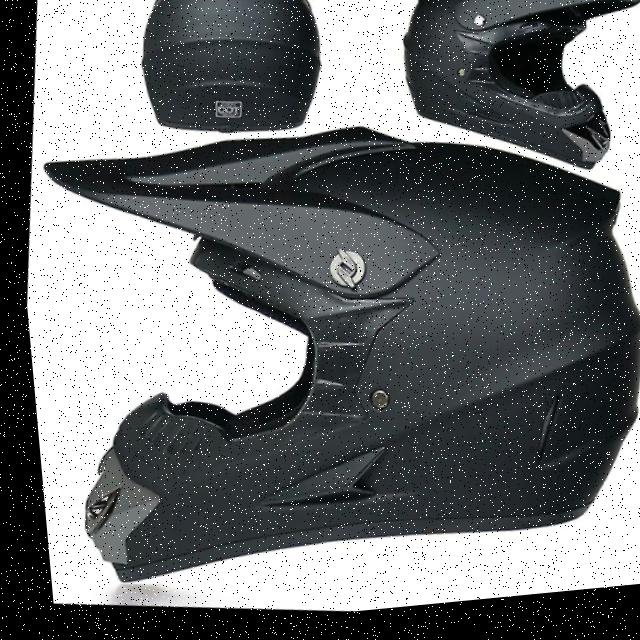illegal_helmet: (8, 67, 640, 640), (376, 0, 640, 209), (119, 0, 342, 160)
